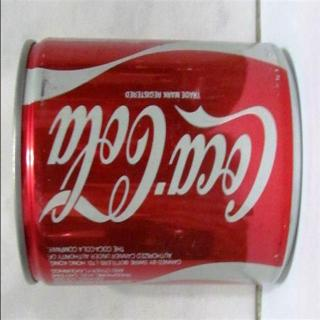Anorganik: (10, 30, 302, 292)
